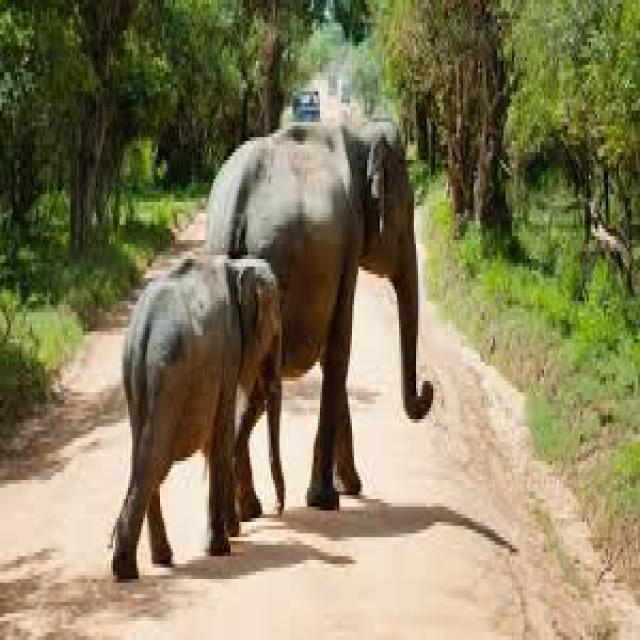Elephant: (206, 98, 444, 530), (110, 240, 287, 580)
